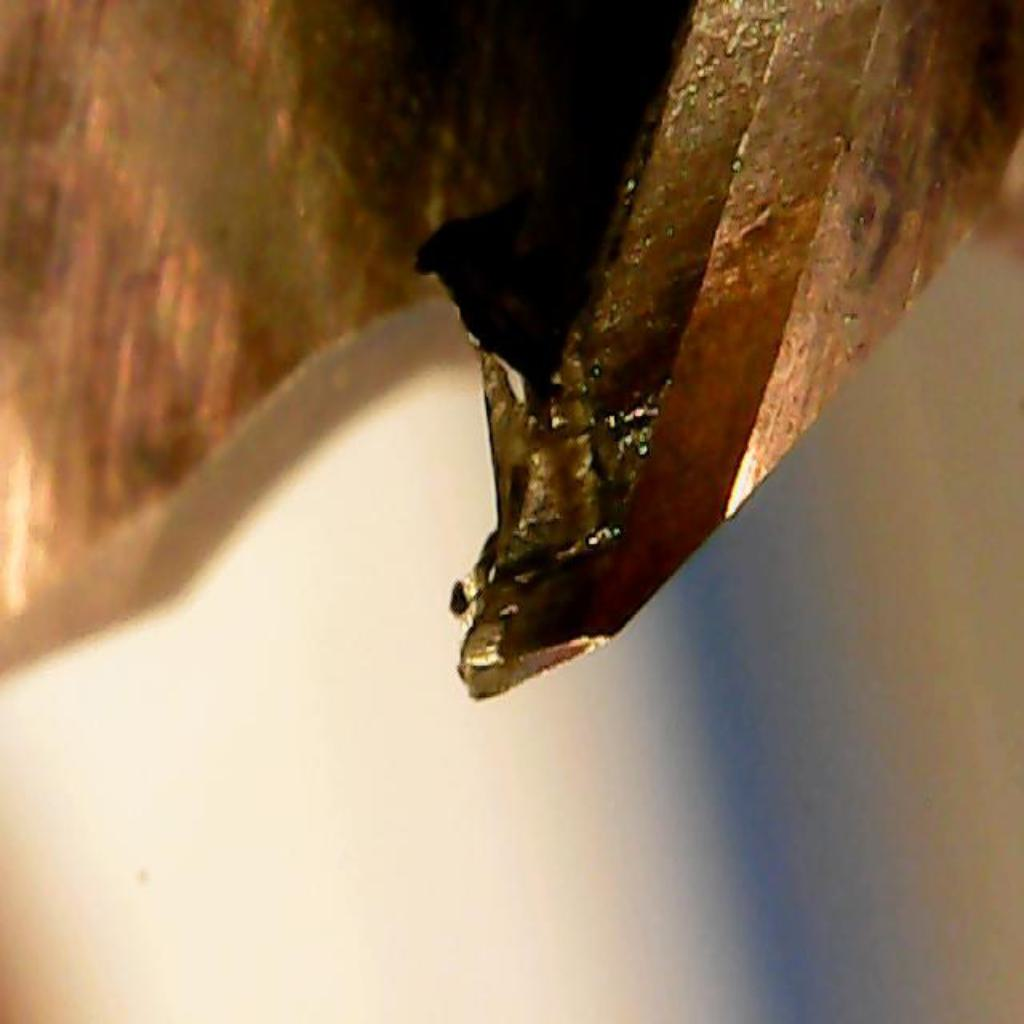Tool-wear-class-3: (426, 306, 783, 768)
